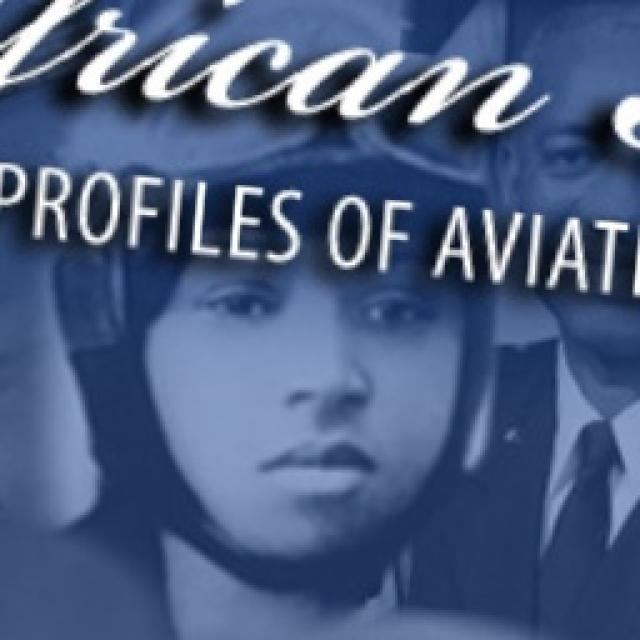no-glasses: (200, 274, 439, 344)
